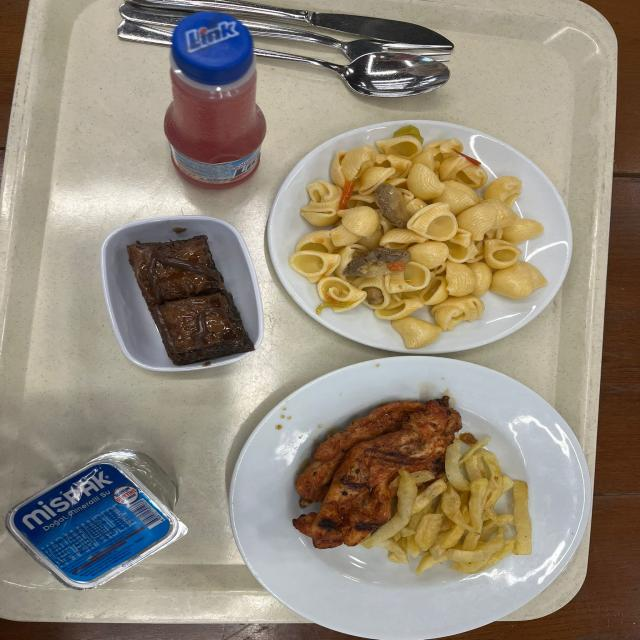ana_yemek: (263, 361, 590, 640), (288, 133, 554, 350)
yan_yemek: (99, 219, 261, 371)
